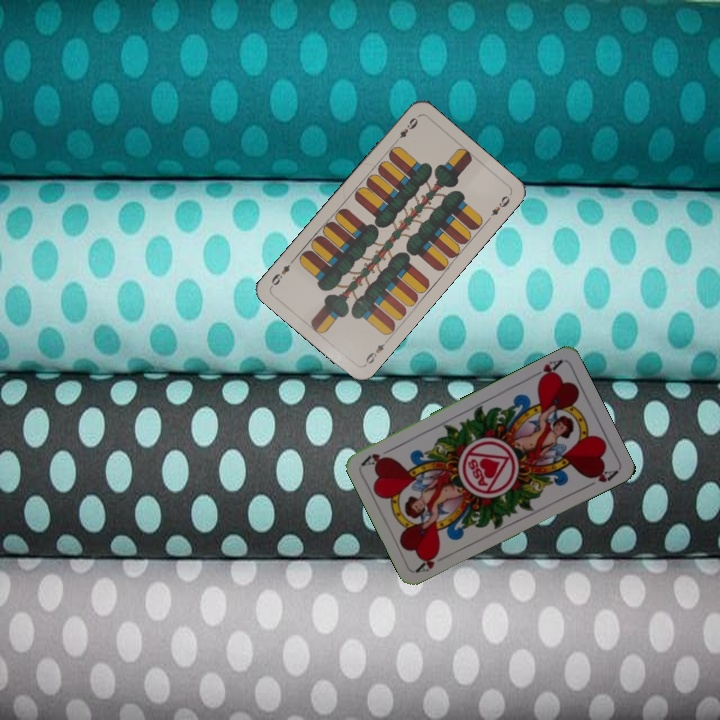E9: (360, 335, 391, 368), (391, 113, 421, 146)
HA: (527, 356, 565, 385), (413, 549, 450, 575)
